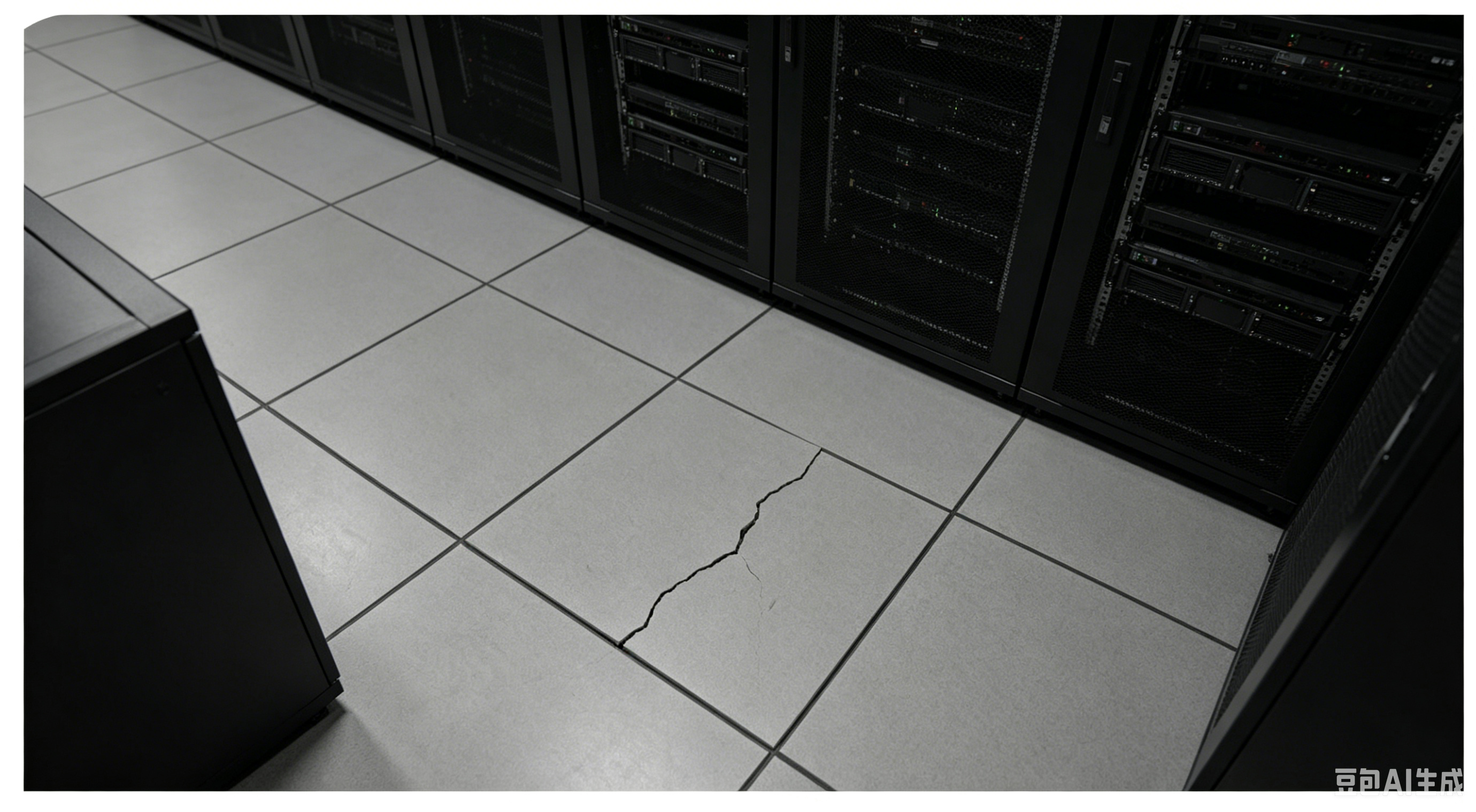floor_defect: (615, 535, 686, 662), (752, 446, 820, 555), (690, 510, 749, 618)
